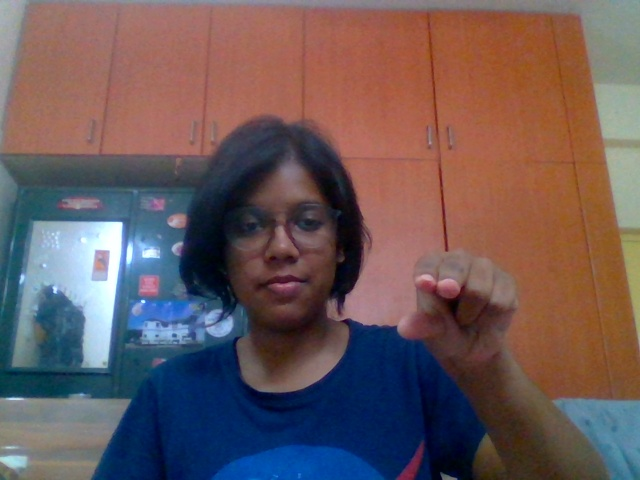No: (389, 240, 561, 391)
